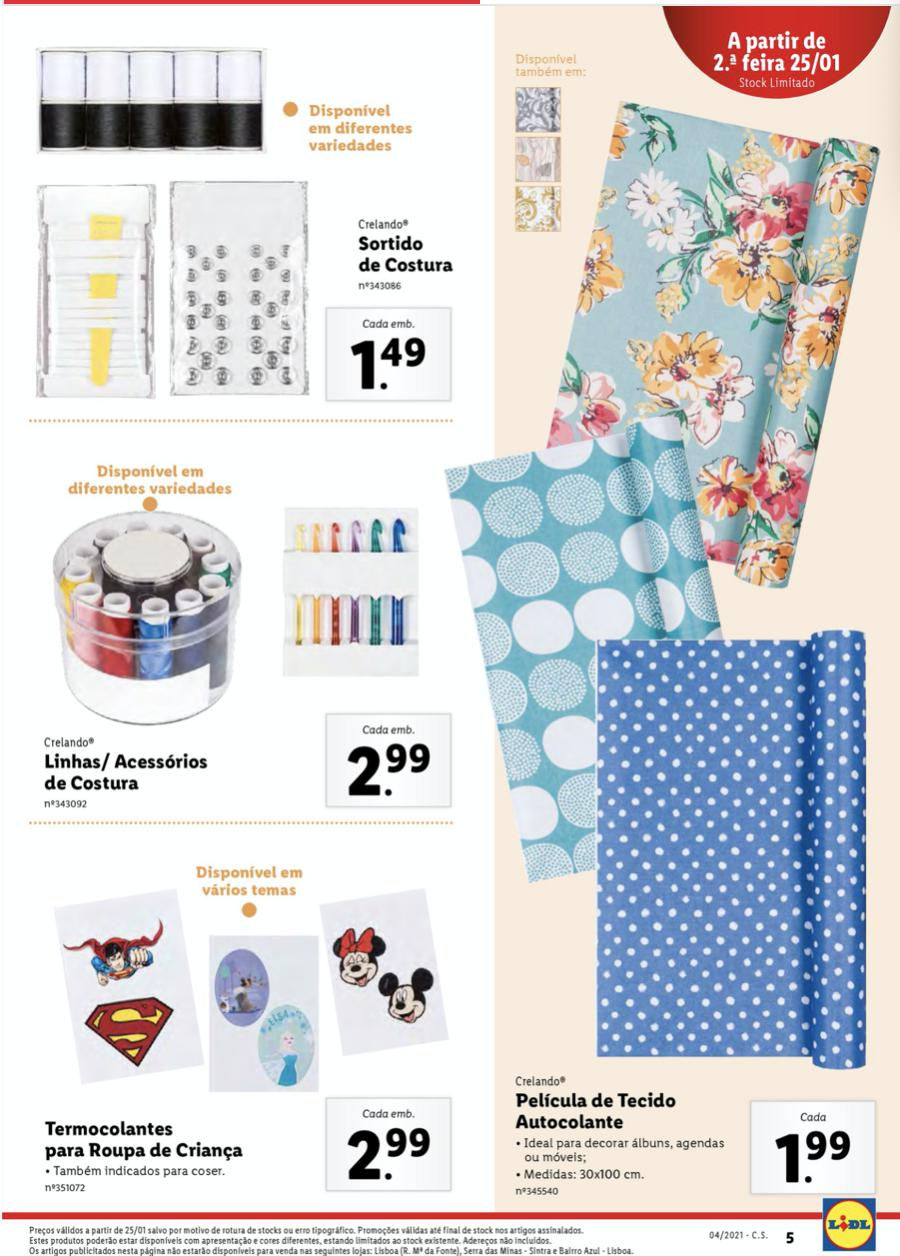name: (40, 1118, 250, 1166), (37, 749, 215, 800), (509, 1088, 681, 1135), (354, 229, 456, 282)
price: (343, 733, 435, 800), (345, 1122, 435, 1183), (350, 336, 432, 402), (771, 1127, 856, 1186)
product: (496, 75, 892, 1200), (17, 25, 459, 408), (21, 436, 459, 813), (25, 838, 468, 1196)
